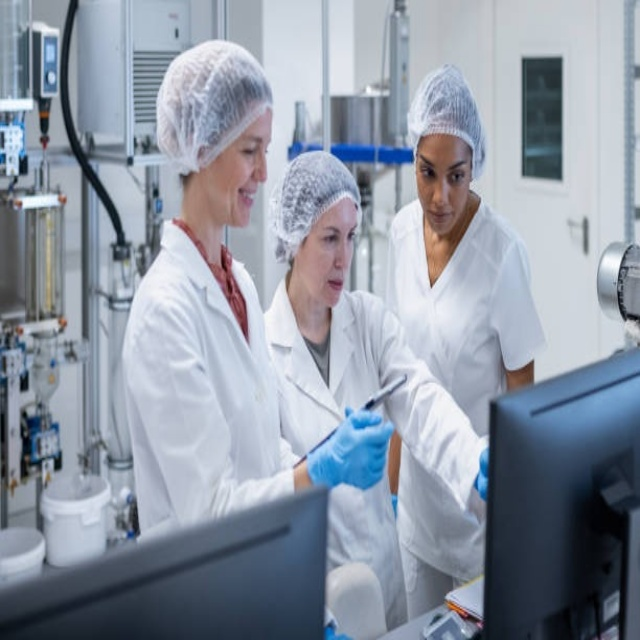Guantes: (301, 405, 397, 489)
Sin_gafas: (417, 149, 470, 187), (312, 218, 360, 253), (229, 129, 274, 163)
Sin_mascara: (230, 180, 260, 220), (316, 270, 346, 306), (425, 201, 453, 234)
